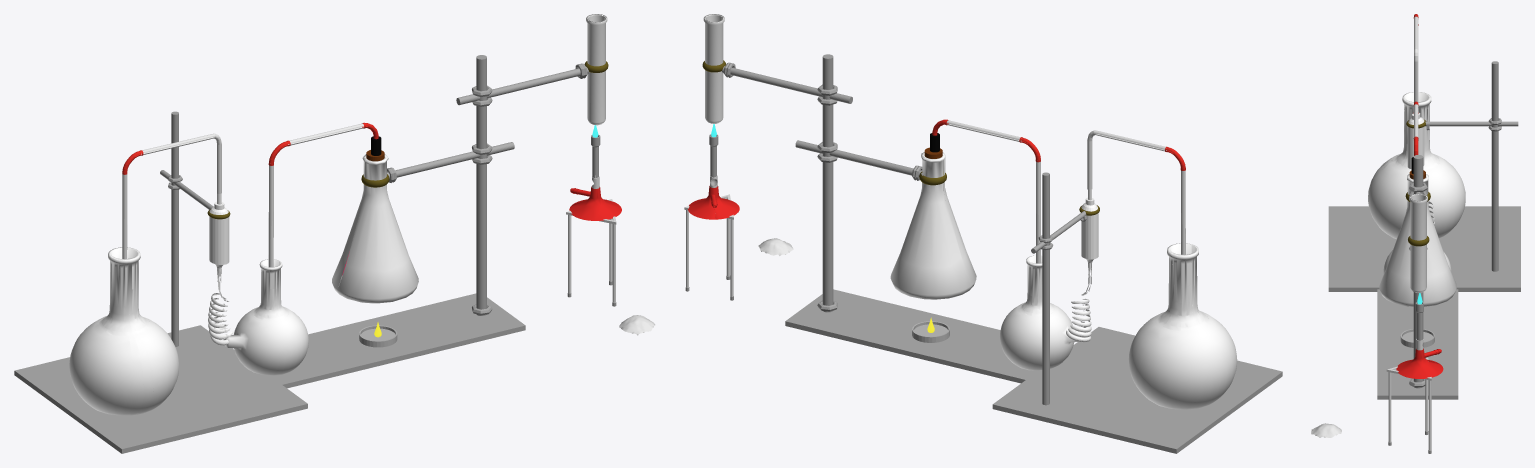
Rendered from Chemistry Set.fbx.
The picture shows the model from 3 angles, left to right: view 1: azimuth 30°, elevation 25°; view 2: azimuth 150°, elevation 25°; view 3: azimuth 270°, elevation 25°; orthographic projection. The views are drawn at different scales.
Visible parts, largest first — view 1: Cube.001, Sphere.001, Cube.096, Cylinder.134, Sphere.006, Cylinder.010, Cylinder.131, SuperToroid, Cylinder.141, Cylinder.013, Cylinder.003, Cylinder.140 (+3 smaller); view 2: Cube.001, Sphere.001, Cube.096, Cylinder.134, Sphere.006, Cylinder.131, Cylinder.010, Cylinder.141, SuperToroid, Cylinder.013, Cylinder.003, Cylinder.140 (+3 smaller); view 3: Cube.001, Cube.096, Sphere.001, Cylinder.134, Cylinder.013, Cylinder.141, Cylinder.003, Cylinder.010, Cylinder.009, Cylinder.131, SuperToroid, Cylinder.012 (+2 smaller).
Part boxes in pixels (box(x1,y1,x2,y2)): Cube.001: box(14, 325, 307, 453); Sphere.001: box(69, 247, 178, 415); Cube.096: box(270, 293, 525, 388); Cylinder.134: box(332, 154, 418, 303); Sphere.006: box(223, 259, 308, 375); Cylinder.010: box(122, 122, 381, 267); Cylinder.131: box(476, 55, 486, 315); SuperToroid: box(208, 193, 233, 345); Cylinder.141: box(586, 14, 607, 125); Cylinder.013: box(171, 111, 178, 346); Cylinder.003: box(569, 134, 621, 220); Cylinder.140: box(456, 67, 588, 105); Cube.001: box(992, 327, 1282, 453); Sphere.001: box(1128, 243, 1237, 409); Cube.096: box(785, 289, 1037, 383); Cylinder.134: box(890, 152, 976, 299); Sphere.006: box(1000, 255, 1085, 370); Cylinder.131: box(822, 54, 833, 312); Cylinder.010: box(930, 119, 1185, 263); Cylinder.141: box(703, 14, 724, 123); SuperToroid: box(1066, 189, 1098, 342); Cylinder.013: box(1042, 172, 1049, 405); Cylinder.003: box(688, 134, 739, 219); Cylinder.140: box(722, 66, 852, 103); Cube.001: box(1328, 206, 1520, 291); Cube.096: box(1377, 289, 1458, 399); Sphere.001: box(1368, 92, 1465, 239); Cylinder.134: box(1379, 174, 1456, 306); Cylinder.013: box(1491, 61, 1498, 271); Cylinder.141: box(1409, 193, 1427, 292); Cylinder.003: box(1396, 302, 1443, 378); Cylinder.010: box(1411, 14, 1418, 173); Cylinder.009: box(1388, 372, 1431, 453); Cylinder.131: box(1413, 155, 1423, 388); SuperToroid: box(1407, 113, 1434, 223); Cylinder.012: box(1425, 121, 1518, 126).
Size of the model in its own units: 1001 by 482 by 371.
